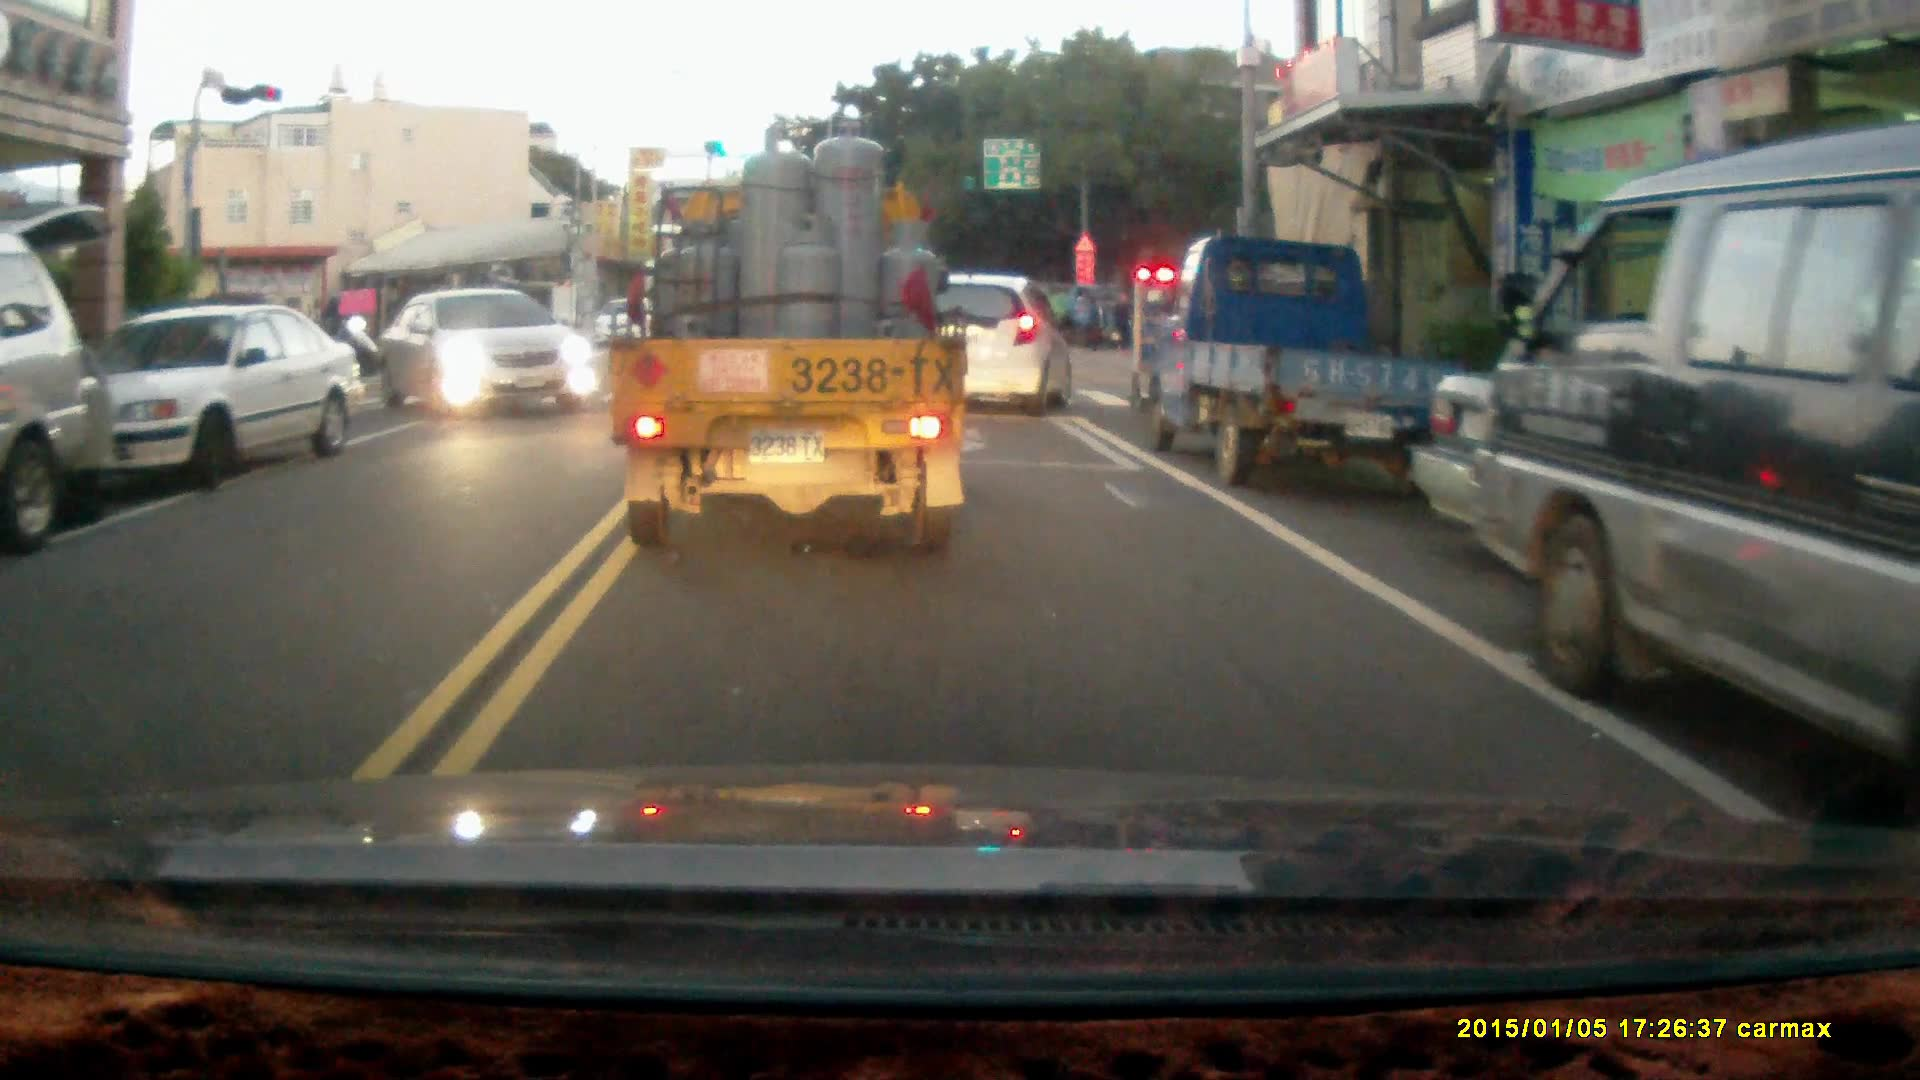rider: (298, 294, 382, 378)
vehicle: (1477, 128, 1920, 829), (608, 117, 973, 556), (1144, 235, 1455, 496), (49, 305, 374, 488), (1, 225, 111, 557), (382, 288, 604, 415), (932, 269, 1074, 410)
